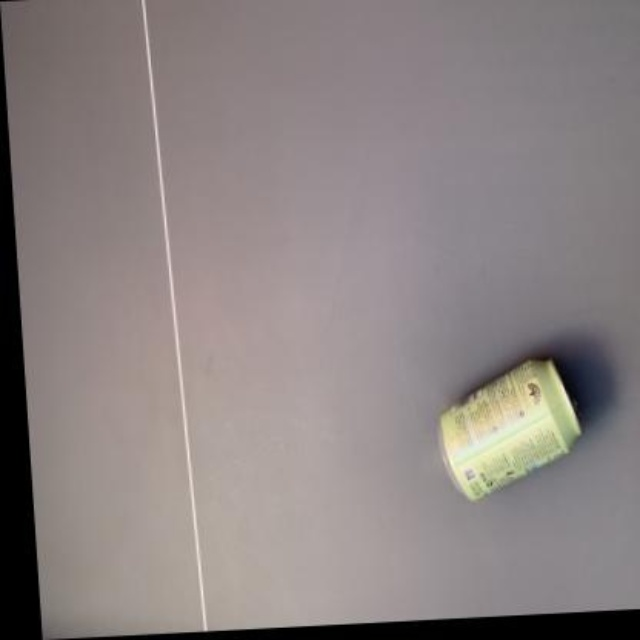trash: (440, 360, 580, 500)
